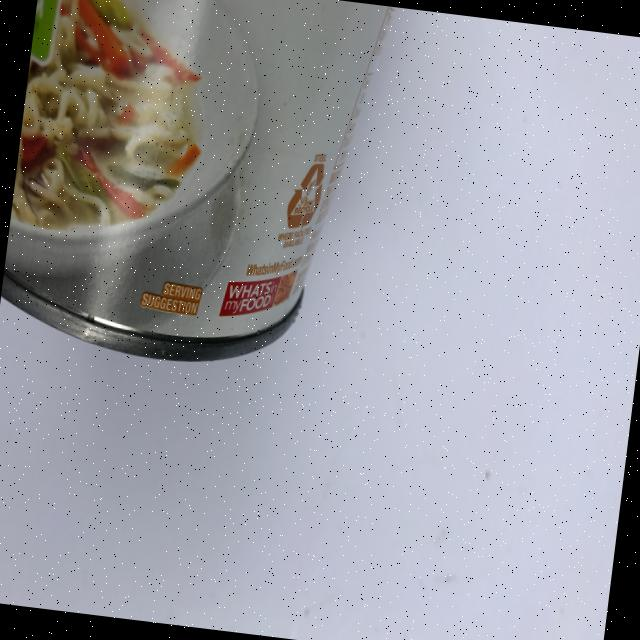metal: (0, 0, 394, 382)
